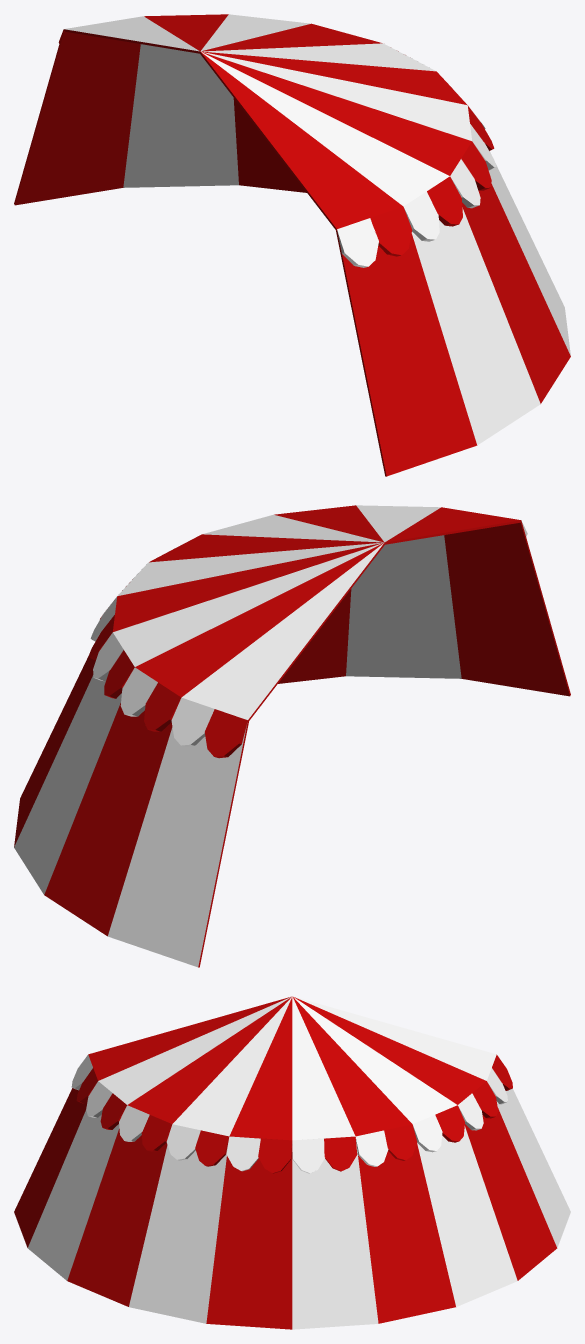
The model's file is halftent.fbx.
The picture shows the model from 3 angles, top to bottom: view 1: azimuth 30°, elevation 25°; view 2: azimuth 150°, elevation 25°; view 3: azimuth 270°, elevation 25°; orthographic projection. The views are drawn at different scales.
Visible parts, largest first — view 1: HalfTent; view 2: HalfTent; view 3: HalfTent.
Part boxes in pixels (bbox=[...]): HalfTent: bbox=[14, 14, 570, 476]; HalfTent: bbox=[14, 505, 570, 967]; HalfTent: bbox=[14, 996, 570, 1329].
Bounding box in the file's own units: 678 × 580 × 1353.
